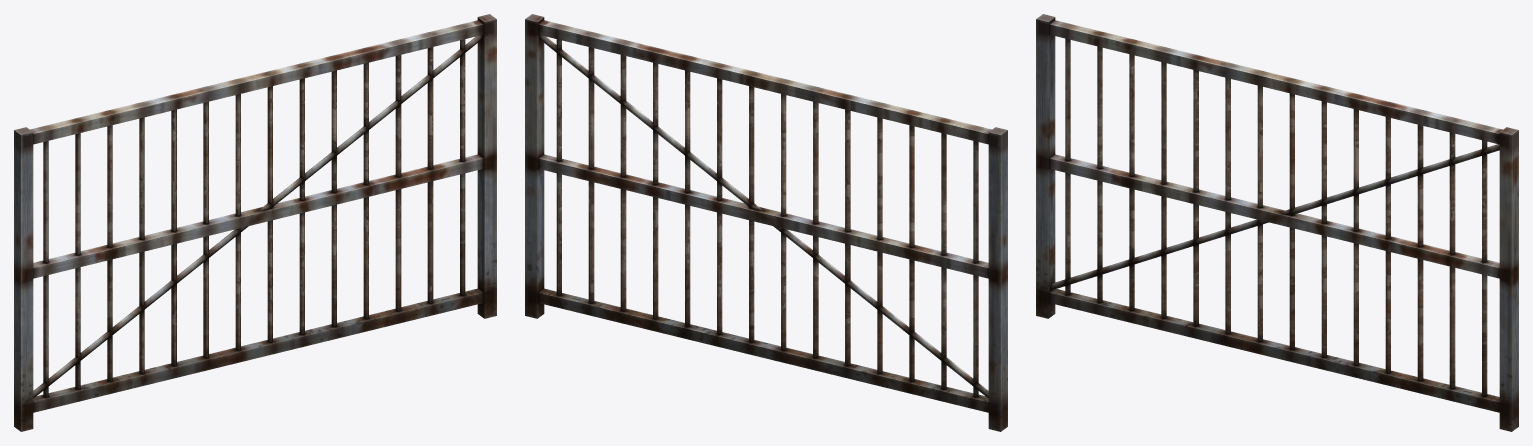
The model's file is div_grade.glb.
The picture shows the model from 3 angles, left to right: view 1: azimuth 30°, elevation 25°; view 2: azimuth 150°, elevation 25°; view 3: azimuth 330°, elevation 25°; orthographic projection.
Parts seen in each view (by area): view 1: div_grade; view 2: div_grade; view 3: div_grade.
Boxes of the visible parts, left/top/right/bottom form: div_grade: left=14, top=14, right=496, bottom=431; div_grade: left=525, top=14, right=1007, bottom=431; div_grade: left=1036, top=14, right=1518, bottom=431.
Bounding box in the file's own units: 1.93 × 1.15 × 0.05.
Materials: 1 (1 with a texture image).
